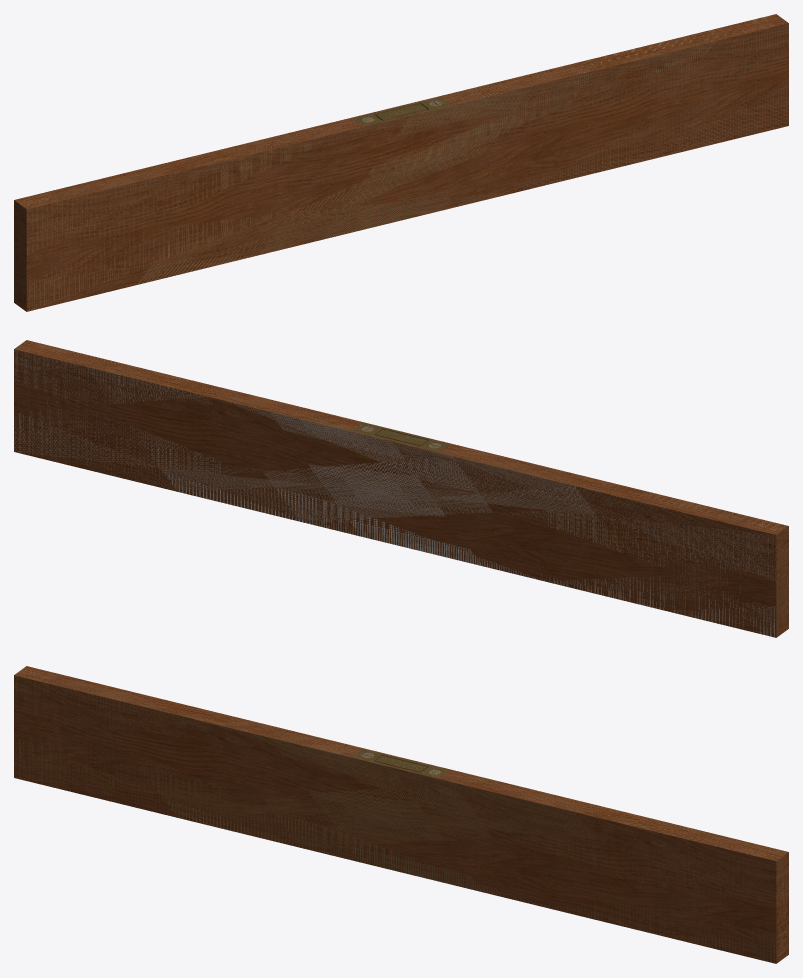
Rendered from original-18.obj.
The picture shows the model from 3 angles, top to bottom: view 1: azimuth 30°, elevation 25°; view 2: azimuth 150°, elevation 25°; view 3: azimuth 330°, elevation 25°; orthographic projection.
Visible parts, largest first — view 1: mesh20/mesh20-geometry#mesh20-geometry; view 2: mesh20/mesh20-geometry#mesh20-geometry; view 3: mesh20/mesh20-geometry#mesh20-geometry.
Part boxes in pixels (x1,y1,x2,y2): mesh20/mesh20-geometry#mesh20-geometry: (14,14,788,311); mesh20/mesh20-geometry#mesh20-geometry: (14,340,788,637); mesh20/mesh20-geometry#mesh20-geometry: (14,666,788,963).
Size of the model in its own units: 0.7478 by 0.0963 by 0.0214.
